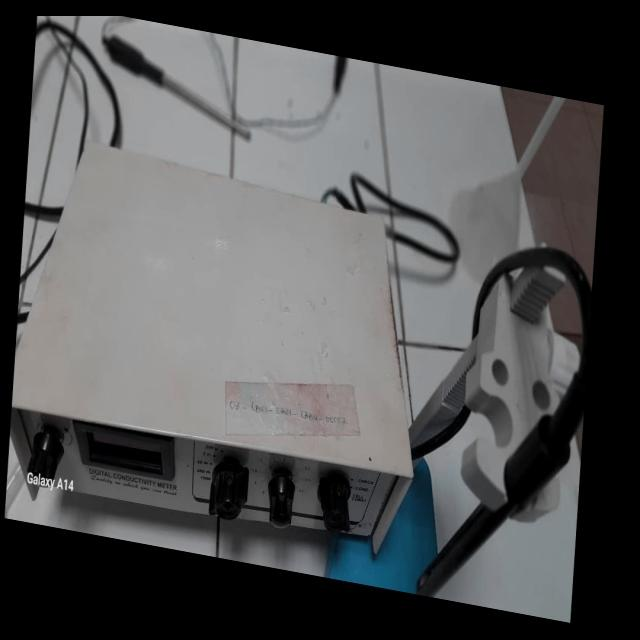Conductivity Meter: (10, 126, 596, 623)
